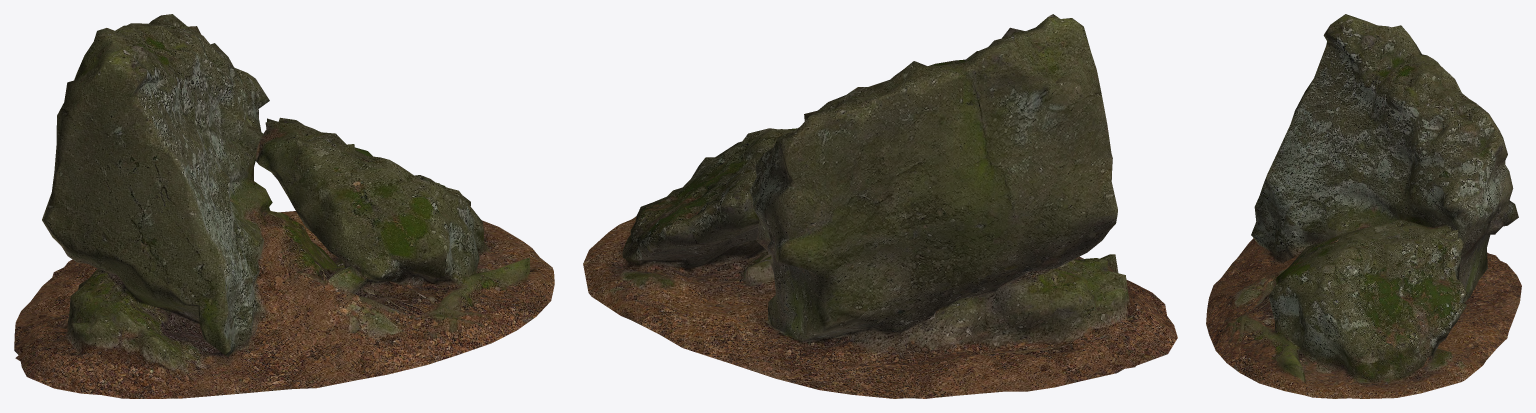
File: mossy_rock.glb
3 views of the same model, side by side, from view 1: azimuth 30°, elevation 25°; view 2: azimuth 150°, elevation 25°; view 3: azimuth 270°, elevation 25° (orthographic). The views are drawn at different scales.
Visible parts, largest first — view 1: mossyRock_S_Mossy_Forest_Rock_vimrfgwaw_lod3_LOD0; view 2: mossyRock_S_Mossy_Forest_Rock_vimrfgwaw_lod3_LOD0; view 3: mossyRock_S_Mossy_Forest_Rock_vimrfgwaw_lod3_LOD0.
Part boxes in pixels (bbox=[...]): mossyRock_S_Mossy_Forest_Rock_vimrfgwaw_lod3_LOD0: bbox=[14, 14, 554, 398]; mossyRock_S_Mossy_Forest_Rock_vimrfgwaw_lod3_LOD0: bbox=[583, 14, 1177, 398]; mossyRock_S_Mossy_Forest_Rock_vimrfgwaw_lod3_LOD0: bbox=[1206, 14, 1521, 398].
Bounding box in the file's own units: 9.82 × 5.46 × 6.86.
Materials: 1 (1 with a texture image).
